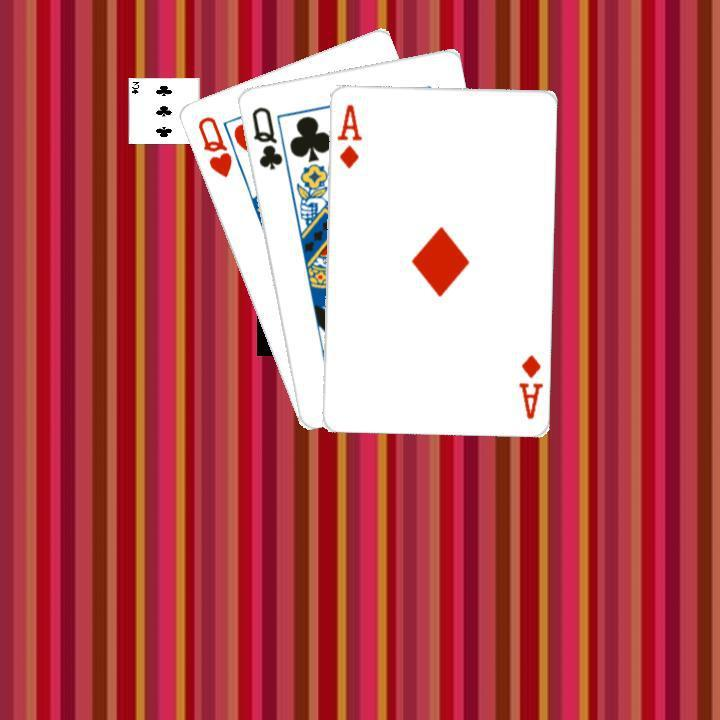A: (332, 100, 363, 170), (513, 350, 543, 420)
Q: (192, 111, 234, 180), (246, 102, 284, 172)
